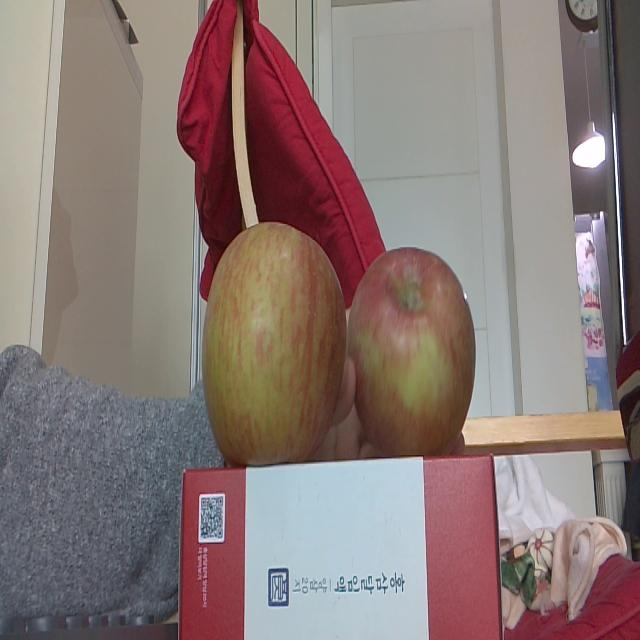apple: (200, 221, 345, 462), (350, 239, 477, 455)
